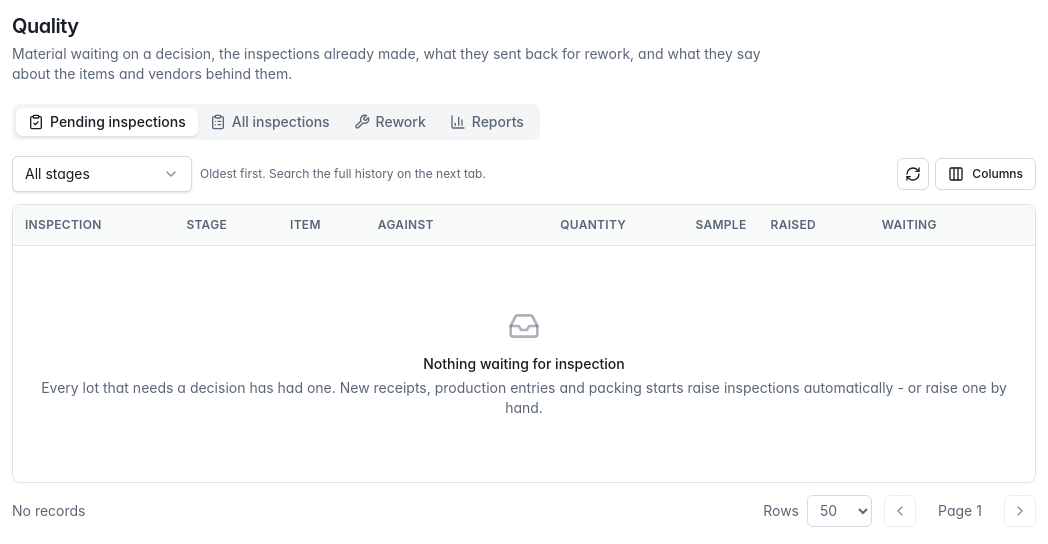
Test: the inspection history › withholds Inspect on a ACCEPTED inspection, which the API would refuse
Expected: the text "Nothing waiting for inspection" is shown, left=423, top=354, right=625, bottom=372
Click the tab "All inspections".
click(270, 122)  # box left=198, top=108, right=342, bottom=136
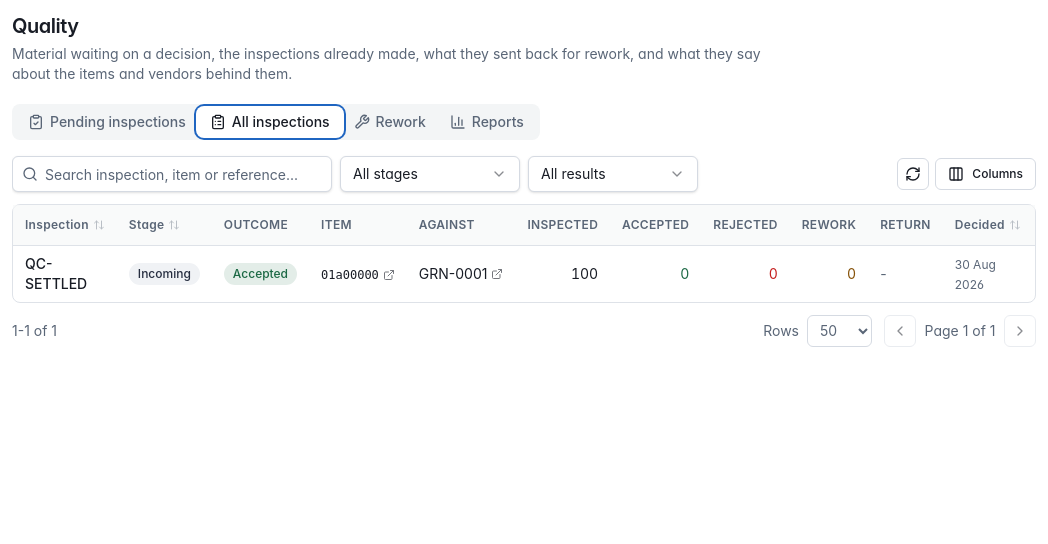
Result: the text "QC-SETTLED" is shown at left=25, top=254, right=87, bottom=292
